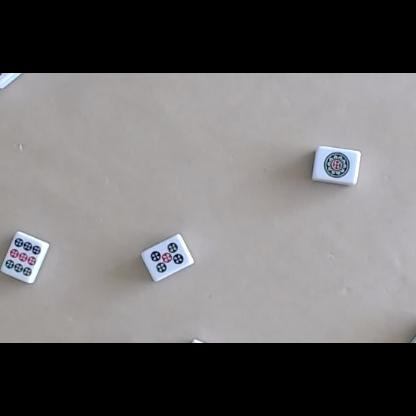1p: (323, 152, 350, 178)
5p: (151, 242, 184, 273)
6p: (0, 73, 21, 76)
9p: (5, 238, 41, 276)
